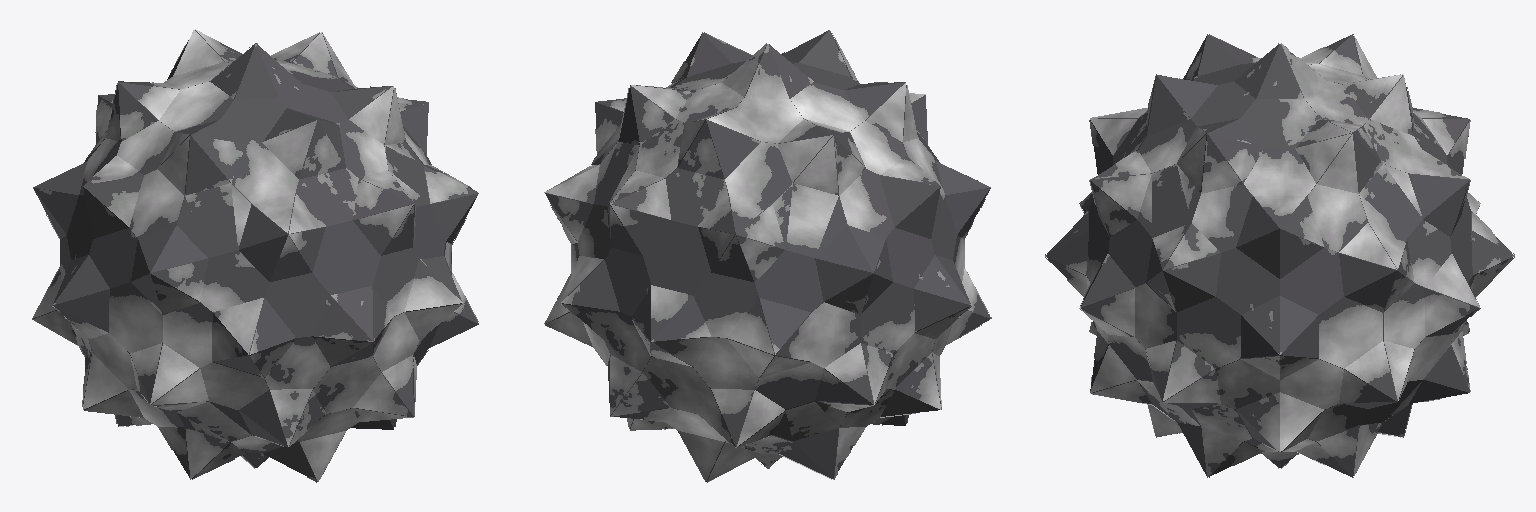
The picture shows the model from 3 angles: view 1: azimuth 30°, elevation 25°; view 2: azimuth 150°, elevation 25°; view 3: azimuth 270°, elevation 25°; orthographic projection.
Visible parts, largest first — view 1: Explosion21, Explosion22, Explosion26, Explosion27, Explosion24, Explosion23; view 2: Explosion21, Explosion25, Explosion26, Explosion27, Explosion24, Explosion23; view 3: Explosion21, Explosion23, Explosion27, Explosion25, Explosion22, Explosion24.
Part boxes in pixels (left/top/right/bottom): Explosion21: left=33, top=30, right=478, bottom=481; Explosion22: left=84, top=86, right=466, bottom=481; Explosion26: left=32, top=69, right=316, bottom=482; Explosion27: left=91, top=29, right=469, bottom=354; Explosion24: left=35, top=304, right=462, bottom=468; Explosion23: left=221, top=32, right=478, bottom=473; Explosion21: left=545, top=30, right=990, bottom=481; Explosion25: left=544, top=100, right=930, bottom=481; Explosion26: left=707, top=33, right=978, bottom=482; Explosion27: left=544, top=36, right=935, bottom=354; Explosion24: left=561, top=304, right=981, bottom=481; Explosion23: left=557, top=52, right=784, bottom=298; Explosion21: left=1047, top=34, right=1513, bottom=477; Explosion23: left=1090, top=75, right=1469, bottom=477; Explosion27: left=1074, top=43, right=1498, bottom=307; Explosion25: left=1281, top=34, right=1514, bottom=477; Explosion22: left=1045, top=53, right=1241, bottom=432; Explosion24: left=1080, top=309, right=1479, bottom=468.
Bounding box in the file's own units: 9.9 × 9.9 × 9.9.
Materials: 2 (1 with a texture image).